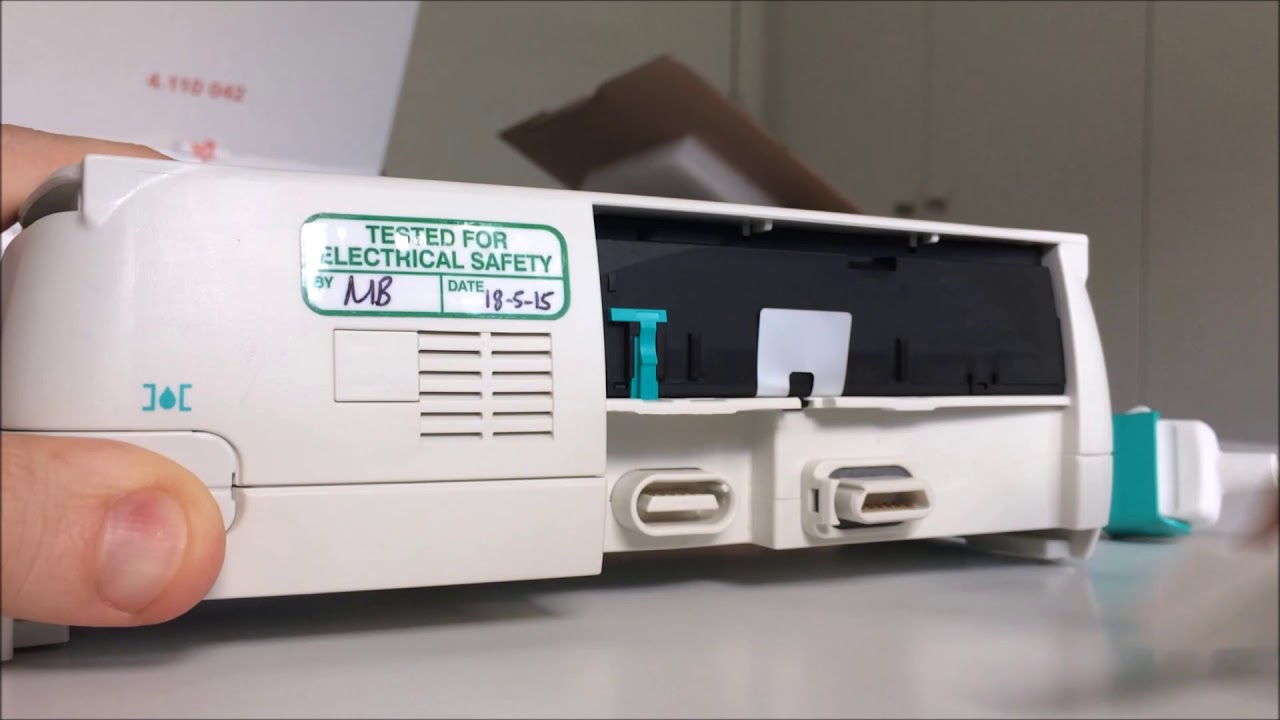BBraun Infusomat Space: (11, 136, 1141, 609)
